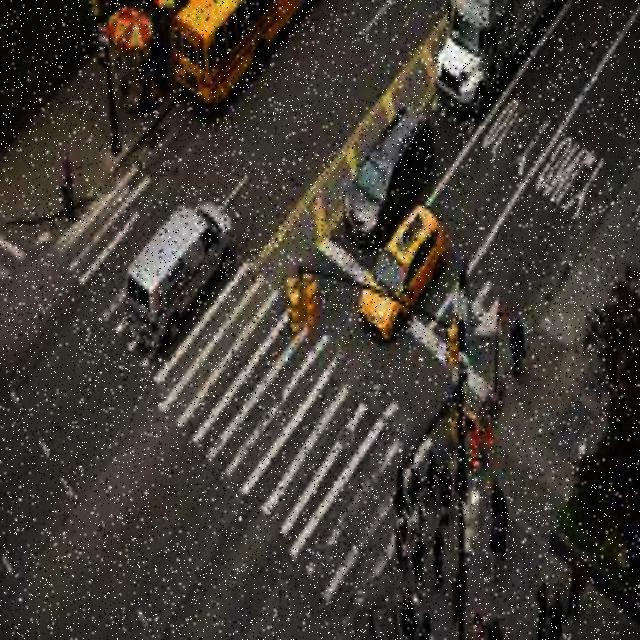Pedestrian crosswalk: (46, 0, 548, 637)
